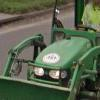Tractor: (10, 20, 100, 100)
